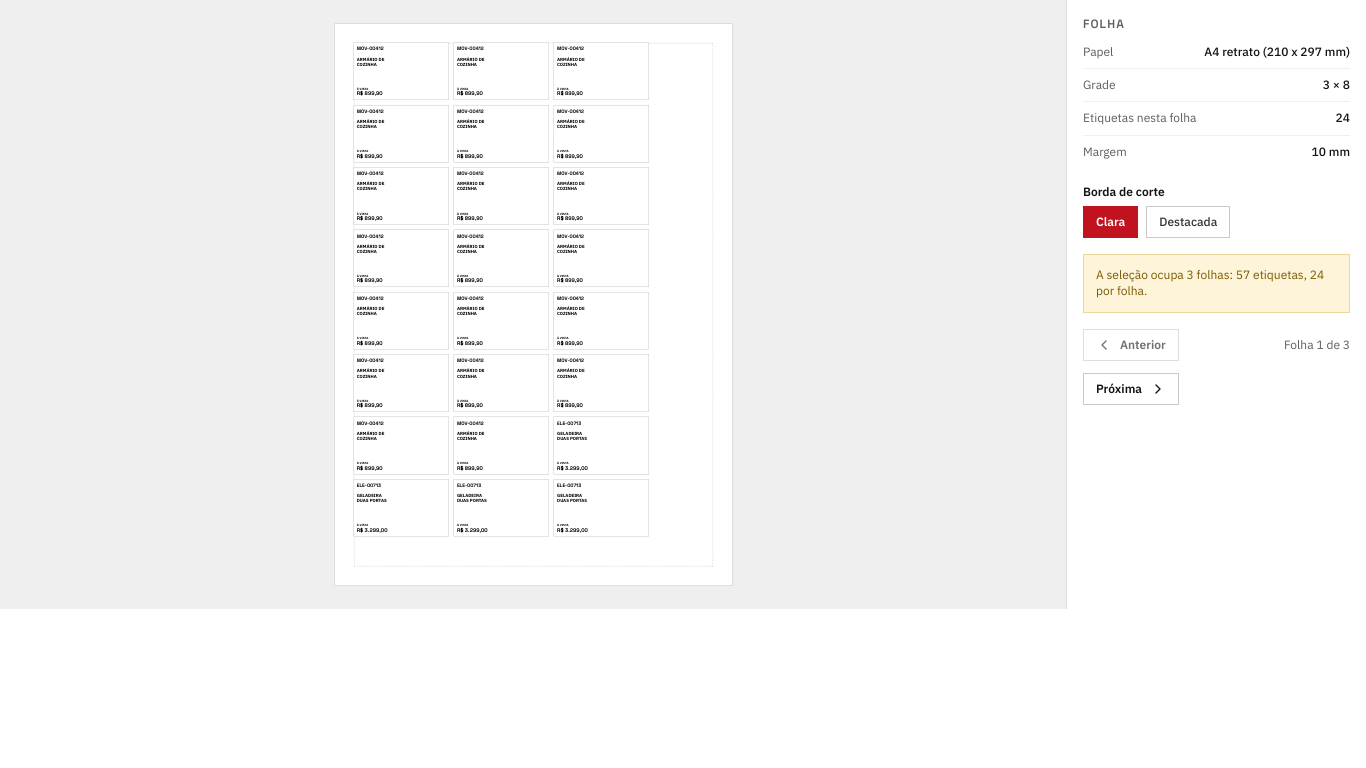
Test: selecao que passa de uma folha › navega entre as folhas e desenha so a folha escolhida
The width and height of the screenshot is (1366, 768).
Expected: the button "Anterior" is disabled, [1083, 329, 1179, 361]
Step 1. Click the button "Próxima" → (1131, 389), box [1083, 373, 1179, 405]
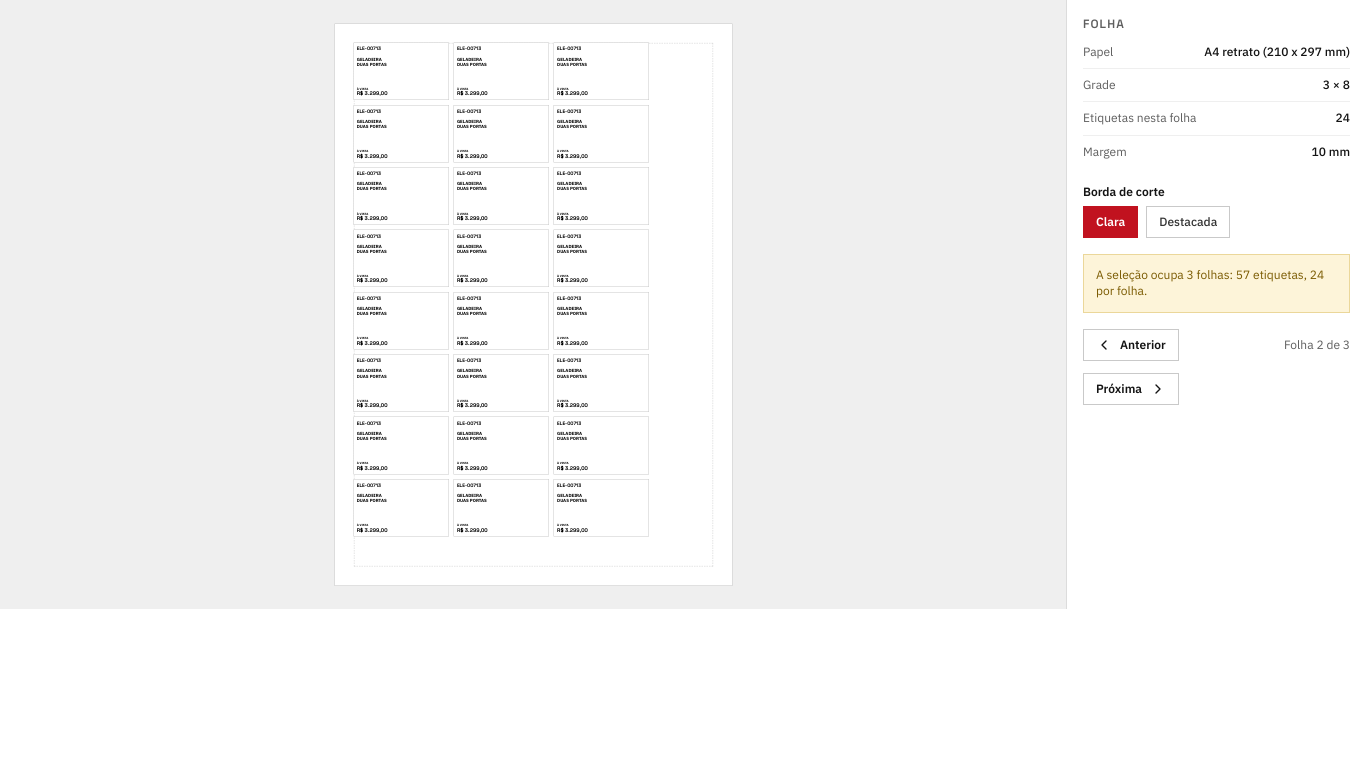
Step 2. Click the button "Próxima" → (1131, 389), box [1083, 373, 1179, 405]
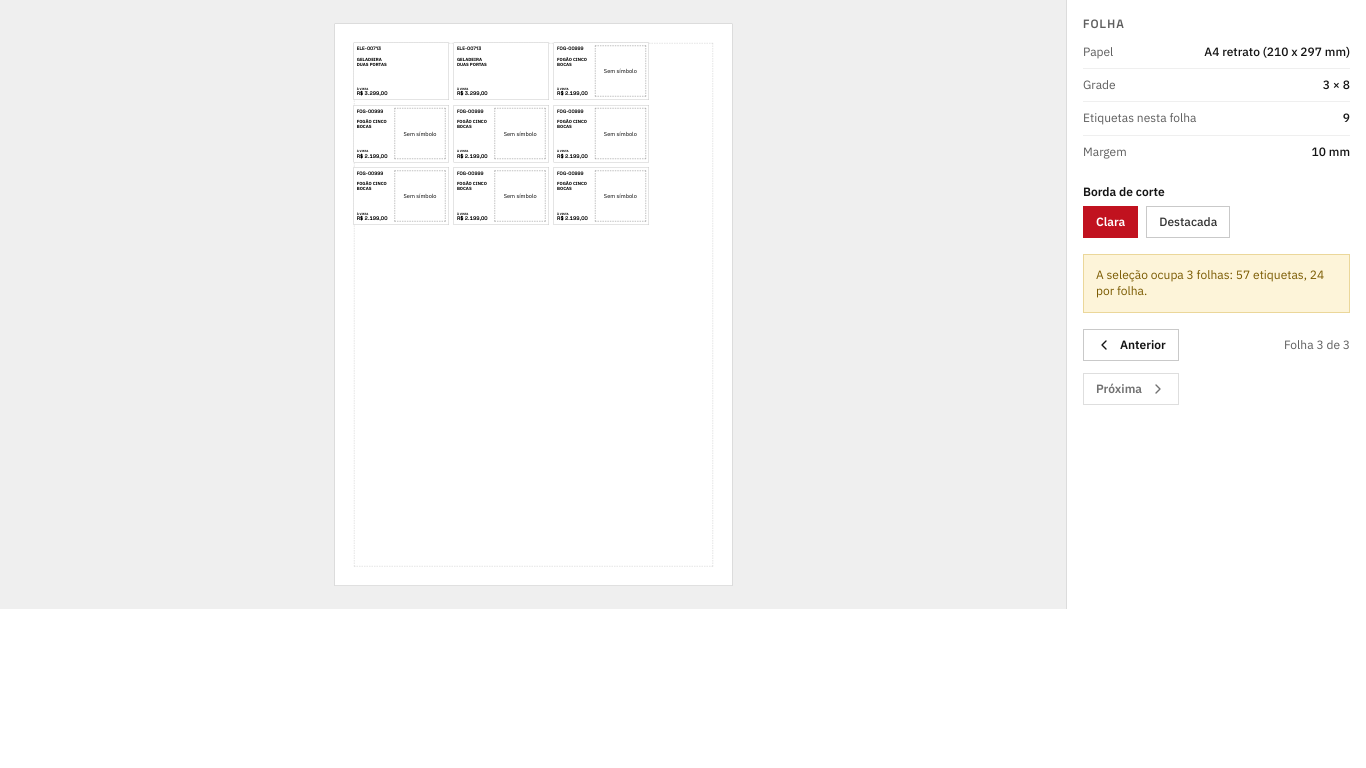
Now the text "Folha 3 de 3" is shown, box [1284, 337, 1350, 352]
Now the button "Próxima" is disabled, box [1083, 373, 1179, 405]
